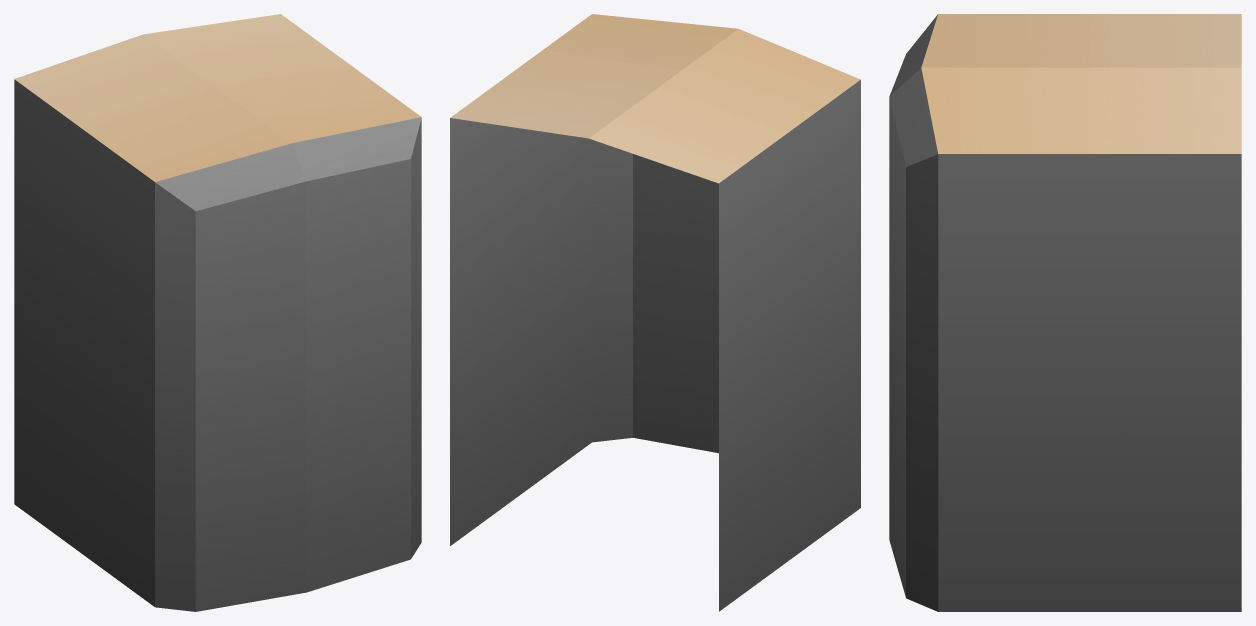
File: Lake Rock 1.fbx
3 renders of one model, left to right at view 1: azimuth 30°, elevation 25°; view 2: azimuth 150°, elevation 25°; view 3: azimuth 270°, elevation 25°, orthographic. The views are drawn at different scales.
Visible parts, largest first — view 1: polySurface113; view 2: polySurface113; view 3: polySurface113.
Boxes of the visible parts, x1=… form: polySurface113: x1=14, y1=14, x2=421, y2=611; polySurface113: x1=450, y1=14, x2=860, y2=611; polySurface113: x1=889, y1=14, x2=1241, y2=611.
Size of the model in its own units: 9.88 by 15.52 by 10.5.
1 material, 1 textured.
